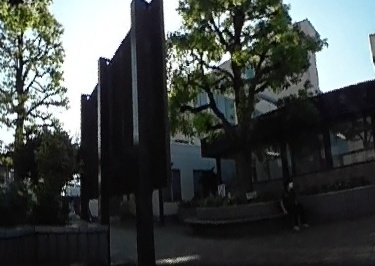person: (280, 178, 310, 229)
